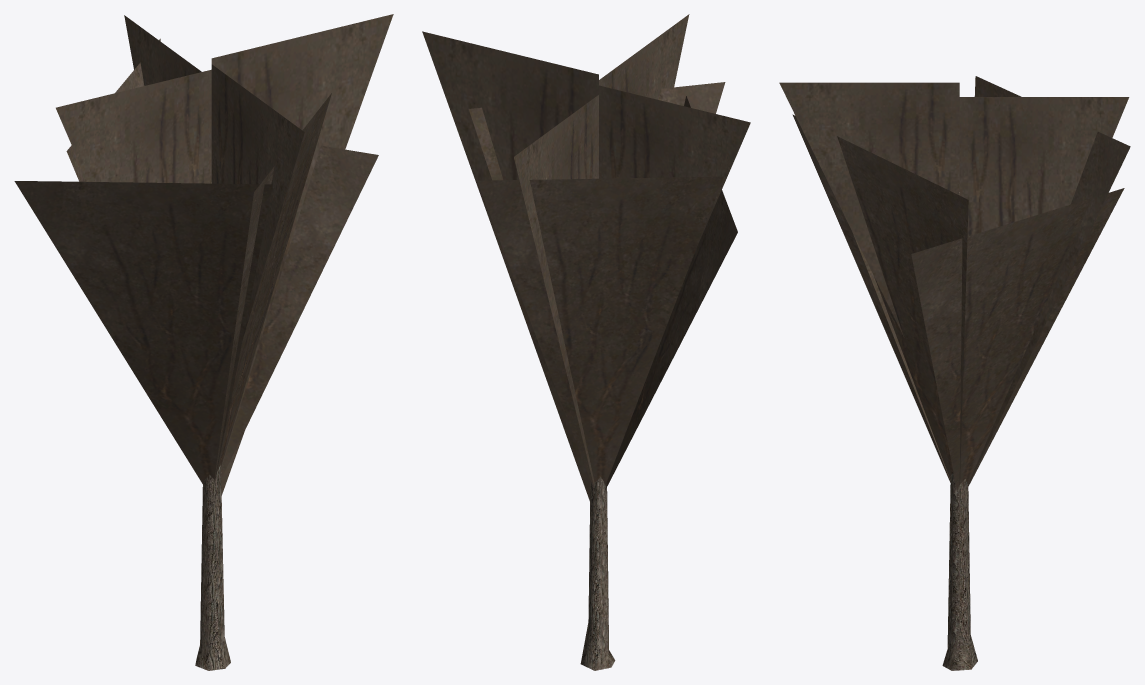
Rendered from tree2b.fbx.
3 views of the same model, side by side, from view 1: azimuth 30°, elevation 25°; view 2: azimuth 150°, elevation 25°; view 3: azimuth 270°, elevation 25° (orthographic). The views are drawn at different scales.
Parts seen in each view (by area): view 1: mesh_6, mesh_2, mesh_1, mesh_8, mesh_3, mesh_7, mesh_0, mesh_4, mesh_5; view 2: mesh_5, mesh_1, mesh_2, mesh_4, mesh_6, mesh_0, mesh_3, mesh_7; view 3: mesh_8, mesh_7, mesh_4, mesh_3, mesh_5, mesh_0, mesh_6.
Part boxes in pixels (box(x1,y1,x2,y2)): mesh_6: box(14, 181, 272, 484); mesh_2: box(56, 69, 211, 183); mesh_1: box(211, 14, 393, 495); mesh_8: box(221, 145, 378, 478); mesh_3: box(211, 64, 304, 339); mesh_7: box(214, 93, 331, 482); mesh_0: box(195, 182, 230, 670); mesh_4: box(124, 15, 201, 85); mesh_5: box(66, 38, 160, 181); mesh_5: box(477, 176, 723, 486); mesh_1: box(422, 31, 598, 500); mesh_2: box(599, 85, 750, 245); mesh_4: box(514, 95, 598, 487); mesh_6: box(605, 96, 737, 490); mesh_0: box(580, 476, 615, 670); mesh_3: box(599, 14, 689, 99); mesh_7: box(468, 82, 725, 180); mesh_8: box(911, 188, 1124, 490); mesh_7: box(792, 114, 968, 484); mesh_4: box(959, 97, 1129, 236); mesh_3: box(779, 82, 959, 336); mesh_5: box(967, 76, 1130, 486); mesh_0: box(942, 192, 977, 670); mesh_6: box(853, 235, 950, 480).
Bounding box in the file's own units: 449 × 738 × 401.
2 materials, 2 textured.
